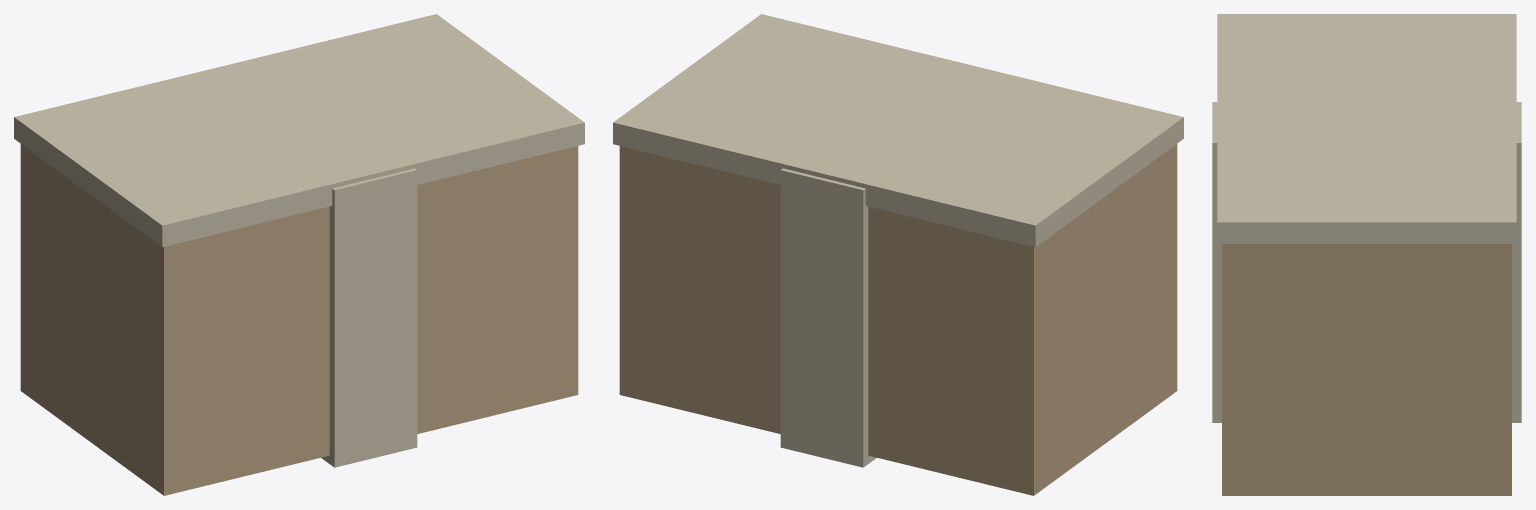
File: parcel-box.glb
3 views of the same model, side by side, from view 1: azimuth 30°, elevation 25°; view 2: azimuth 150°, elevation 25°; view 3: azimuth 270°, elevation 25° (orthographic).
Parts seen in each view (by area): view 1: parcel-box; view 2: parcel-box; view 3: parcel-box.
Part boxes in pixels (x1,y1,x2,y2): parcel-box: (14, 14, 584, 495); parcel-box: (613, 14, 1183, 495); parcel-box: (1212, 14, 1521, 495).
Size of the model in its own units: 15 by 9.56 by 9.41.
